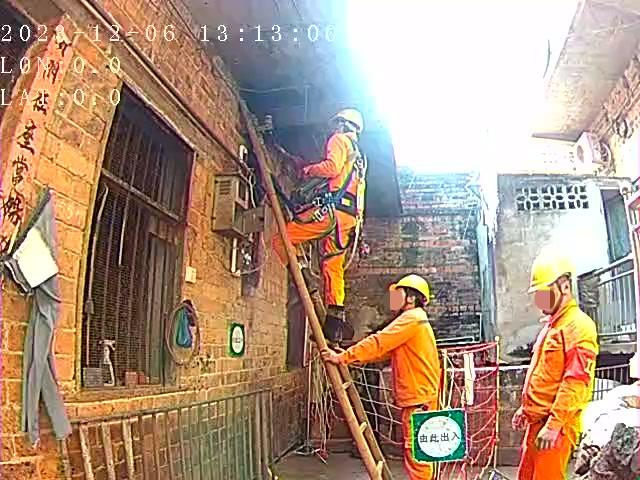halt: (531, 253, 582, 315), (391, 277, 433, 314)
